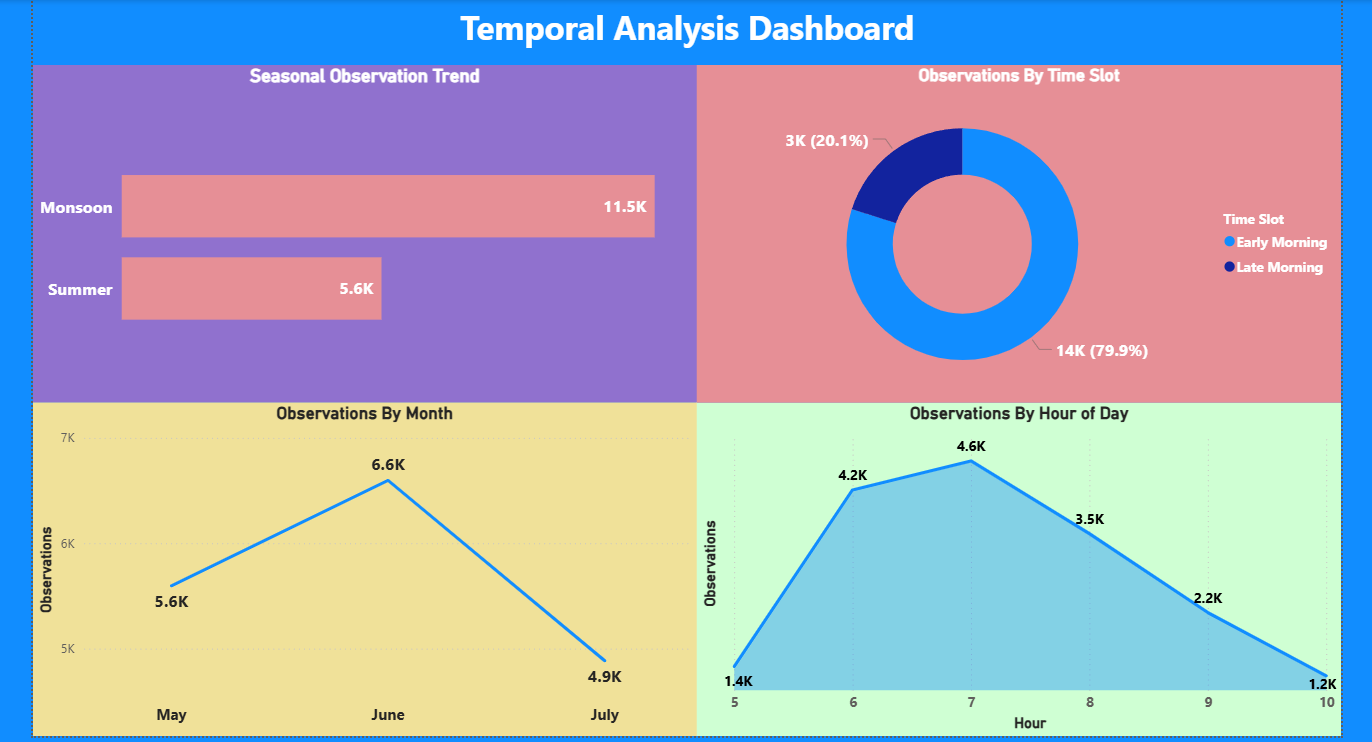

What the dashboard file says about the page in this screenshot:
{"tool":"powerbi","page":{"name":"Temporal Analysis","canvas":[1280,720],"ordinal":0},"visuals":[{"type":"clusteredBarChart","title":"Seasonal Observation Trend","fields":{"Category":["seasonal_trends.season"],"Y":["Sum(seasonal_trends.total_observations)"],"Series":["seasonal_trends.year"]},"box":[0,63.6,649.3,330.2],"z":0},{"type":"lineChart","title":"Observations By Month","fields":{"Category":["monthly_trends.month"],"Y":["Sum(monthly_trends.total_observations)"]},"box":[0,393.8,649.3,326.5],"z":1000},{"type":"areaChart","title":"Observations By Hour of Day","fields":{"Category":["bird_activity_hour.hour"],"Y":["Sum(bird_activity_hour.observations)"]},"box":[649.3,393.8,631,326.5],"z":2000},{"type":"donutChart","title":"Observations By Time Slot","fields":{"Category":["best_observation_window.time_slot"],"Y":["Sum(best_observation_window.observations)"]},"box":[649.3,63.6,631,330.2],"z":3000},{"type":"textbox","box":[0,0,1280.3,63.1],"z":7000}]}

Visuals, with their boxes in screenshot pixels (x1, y1, x2, y2):
"Seasonal Observation Trend" clusteredBarChart: [left=29, top=65, right=690, bottom=401]
"Observations By Month" lineChart: [left=29, top=401, right=690, bottom=733]
"Observations By Hour of Day" areaChart: [left=690, top=401, right=1332, bottom=733]
"Observations By Time Slot" donutChart: [left=690, top=65, right=1332, bottom=401]
textbox: [left=29, top=0, right=1332, bottom=64]
